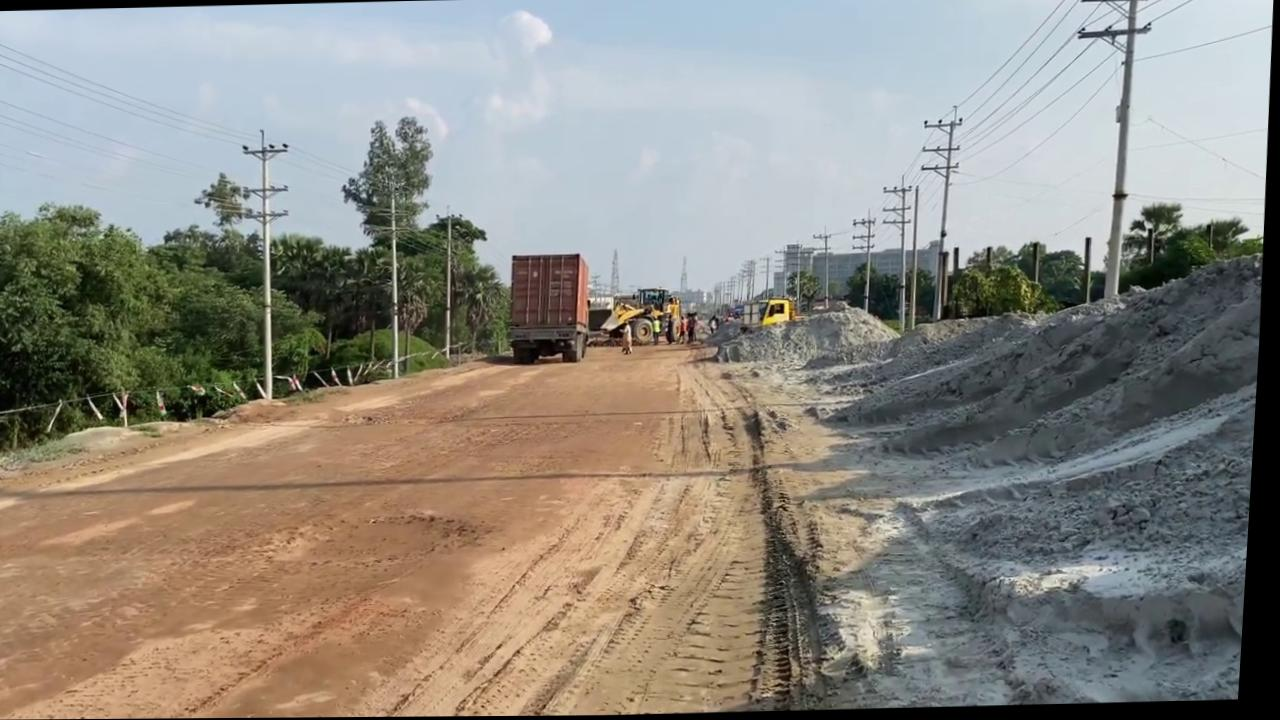Garbage: (815, 269, 1267, 711)
Pole: (249, 137, 317, 404), (1097, 0, 1148, 301), (919, 114, 973, 327), (397, 192, 426, 382), (452, 212, 473, 364)
Traffic-sign: (346, 120, 453, 384)
Tree: (523, 259, 608, 367), (625, 292, 696, 350), (601, 301, 670, 351), (749, 302, 813, 339)
